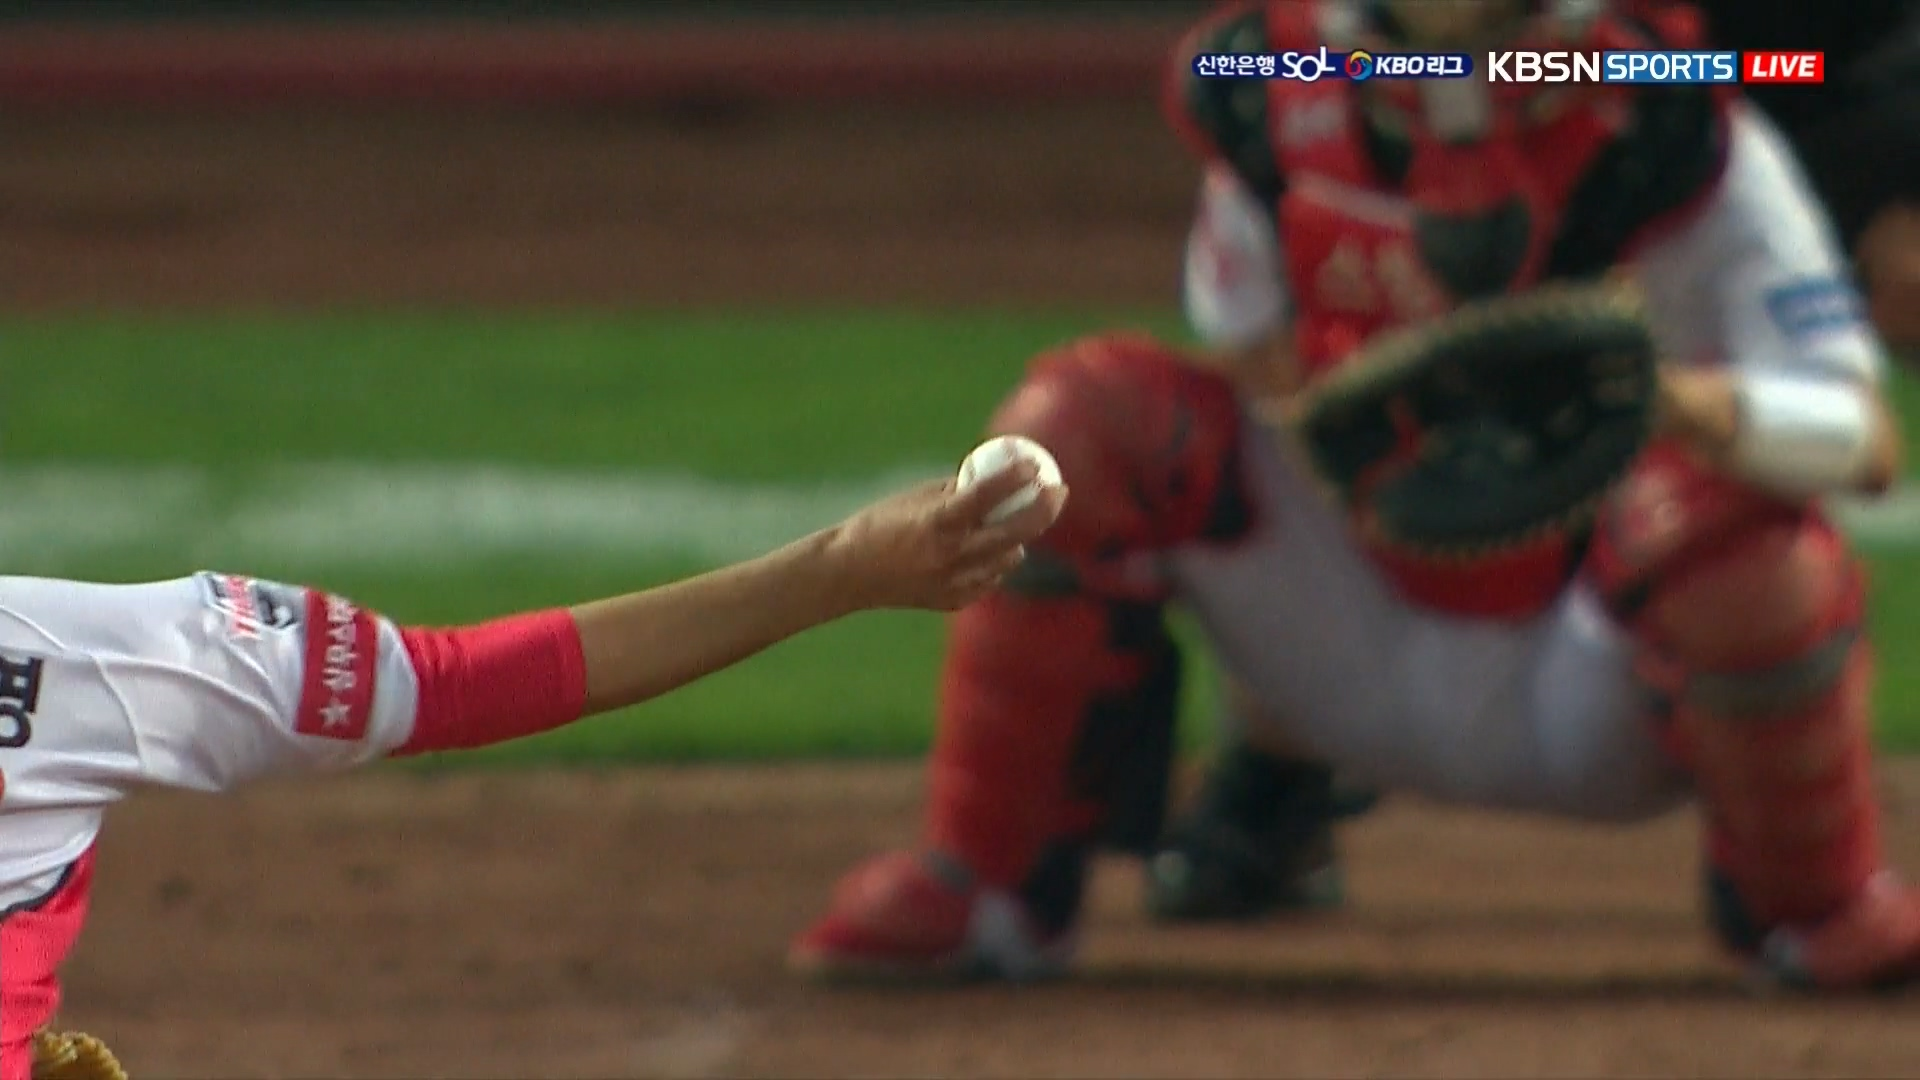zoomin_hand: (407, 427, 1071, 761)
